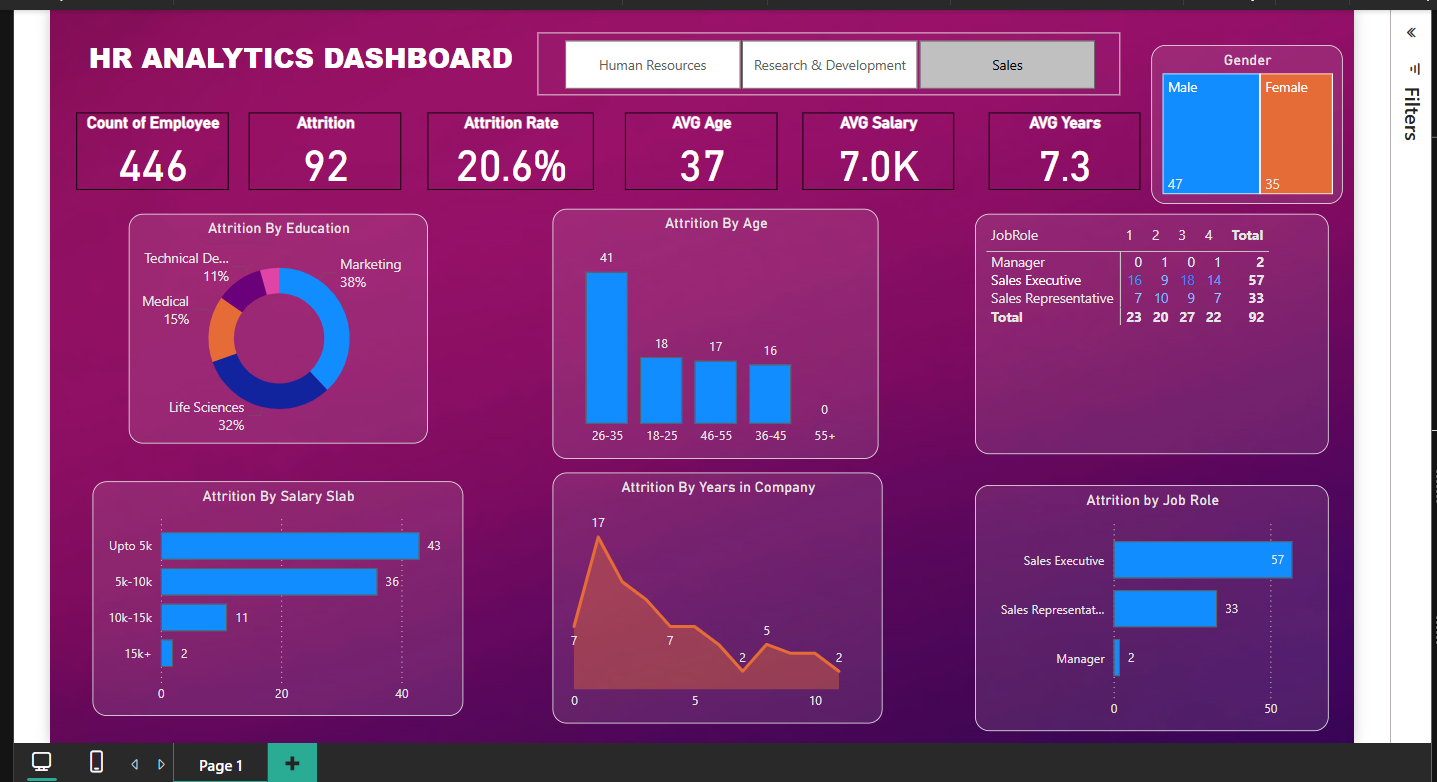

This screenshot's page, from the dashboard's own definition file:
{"tool":"powerbi","page":{"name":"Page 1","canvas":[1280,720],"ordinal":0},"visuals":[{"type":"card","title":"Count of Employee","fields":{"Values":["CountNonNull(HR_Analytics.EmpID)"]},"box":[25.8,100.7,149.8,76.1],"z":0},{"type":"card","title":"Attrition","fields":{"Values":["Sum(HR_Analytics.AttritionCount)"]},"box":[195.2,100.7,149.8,76.1],"z":1000},{"type":"card","title":"Attrition Rate","fields":{"Values":["HR_Analytics.AttritionRate"]},"box":[370.7,100.7,163.3,76.1],"z":2000},{"type":"card","title":"AVG Age","fields":{"Values":["Avg(HR_Analytics.Age)"]},"box":[564.6,100.7,149.8,76.1],"z":3000},{"type":"card","title":"AVG Salary","fields":{"Values":["Avg(HR_Analytics.MonthlyIncome)"]},"box":[738.9,100.7,148.5,76.1],"z":4000},{"type":"card","title":"AVG Years","fields":{"Values":["Avg(HR_Analytics.YearsAtCompany)"]},"box":[921.8,100.7,148.5,76.1],"z":5000},{"type":"donutChart","title":"Attrition By Education","fields":{"Category":["HR_Analytics.EducationField"],"Y":["Sum(HR_Analytics.AttritionCount)"]},"box":[77.3,200.1,293.4,225.9],"z":6000},{"type":"barChart","title":"Attrition By Salary Slab","fields":{"Category":["HR_Analytics.SalarySlab"],"Y":["Sum(HR_Analytics.AttritionCount)"]},"box":[41.2,462.4,363.6,230.5],"z":7000},{"type":"pivotTable","fields":{"Rows":["HR_Analytics.JobRole"],"Columns":["HR_Analytics.JobSatisfaction"],"Values":["Sum(HR_Analytics.AttritionCount)"]},"box":[908.3,200.1,347.4,235.7],"z":8000},{"type":"columnChart","title":"Attrition By Age","fields":{"Category":["HR_Analytics.AgeGroup"],"Y":["Sum(HR_Analytics.AttritionCount)"]},"box":[493.4,195.2,320.4,245.5],"z":9000},{"type":"barChart","title":"Attrition by Job Role","fields":{"Category":["HR_Analytics.JobRole"],"Y":["Sum(HR_Analytics.AttritionCount)"]},"box":[908.3,466.4,347.4,241.8],"z":10000},{"type":"treemap","title":"Gender","fields":{"Group":["HR_Analytics.Gender"],"Values":["Sum(HR_Analytics.AttritionCount)"]},"box":[1081.4,34.4,187.8,155.9],"z":11000},{"type":"areaChart","title":"Attrition By Years in Company","fields":{"Category":["HR_Analytics.YearsAtCompany"],"Y":["Sum(HR_Analytics.AttritionCount)"]},"box":[493.4,454.2,324.1,246.7],"z":12000},{"type":"slicer","fields":{"Values":["HR_Analytics.Department"]},"box":[478.7,22.1,572,61.4],"z":13000},{"type":"textbox","box":[13.5,22.1,465.2,61.4],"z":14000}]}

Visuals, with their boxes on the page's 1280x720 design canvas (x1, y1, x2, y2). These are canvas units, not pixel positions in the 1437x782 screenshot, which may show the page scaled, cropped or inside an application window:
"Count of Employee" card: select_region(26, 101, 176, 177)
"Attrition" card: select_region(195, 101, 345, 177)
"Attrition Rate" card: select_region(371, 101, 534, 177)
"AVG Age" card: select_region(565, 101, 714, 177)
"AVG Salary" card: select_region(739, 101, 887, 177)
"AVG Years" card: select_region(922, 101, 1070, 177)
"Attrition By Education" donutChart: select_region(77, 200, 371, 426)
"Attrition By Salary Slab" barChart: select_region(41, 462, 405, 693)
pivotTable - HR_Analytics.JobRole x HR_Analytics.JobSatisfaction: select_region(908, 200, 1256, 436)
"Attrition By Age" columnChart: select_region(493, 195, 814, 441)
"Attrition by Job Role" barChart: select_region(908, 466, 1256, 708)
"Gender" treemap: select_region(1081, 34, 1269, 190)
"Attrition By Years in Company" areaChart: select_region(493, 454, 818, 701)
slicer - HR_Analytics.Department: select_region(479, 22, 1051, 84)
textbox: select_region(14, 22, 479, 84)
